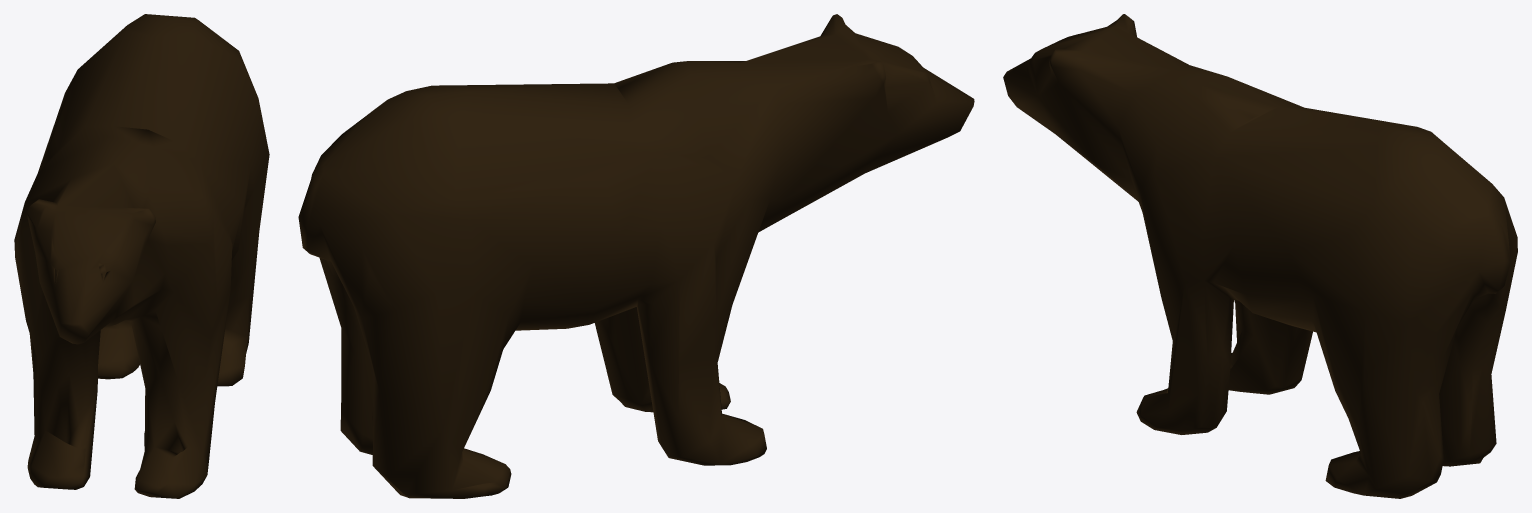
The model's file is mishka.glb.
3 renders of one model, left to right at view 1: azimuth 30°, elevation 25°; view 2: azimuth 150°, elevation 25°; view 3: azimuth 270°, elevation 25°, orthographic. The views are drawn at different scales.
Visible parts, largest first — view 1: Мишка; view 2: Мишка; view 3: Мишка.
Part boxes in pixels (<box>): Мишка: <box>14,14,269,498</box>; Мишка: <box>298,14,974,498</box>; Мишка: <box>1003,14,1517,498</box>.
Bounding box in the file's own units: 4.86 × 4.08 × 5.57.
